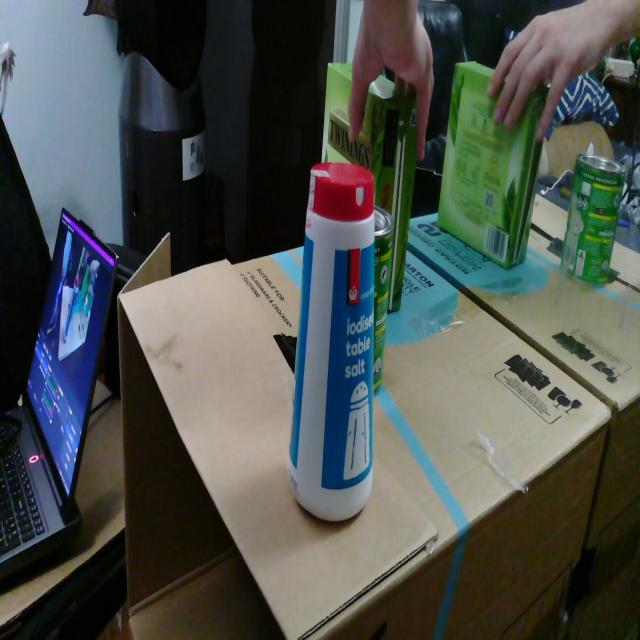nestle_milo_tin: (374, 205, 394, 395)
twinings_greentea_box: (322, 64, 417, 310)
woolworths_salt_bottle: (287, 163, 375, 520)
